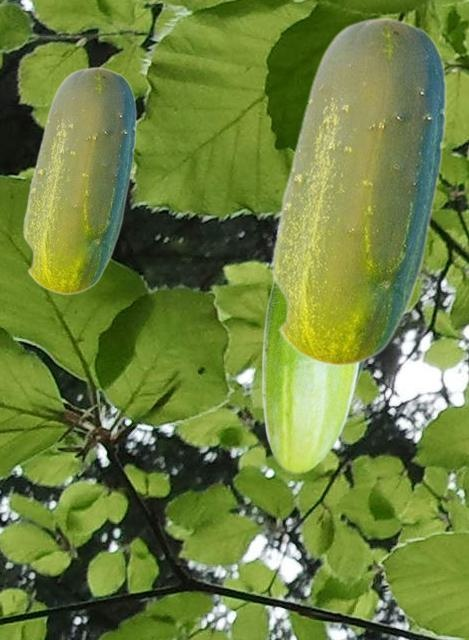cucumber: (270, 16, 445, 366), (22, 66, 135, 294), (261, 280, 361, 473)
